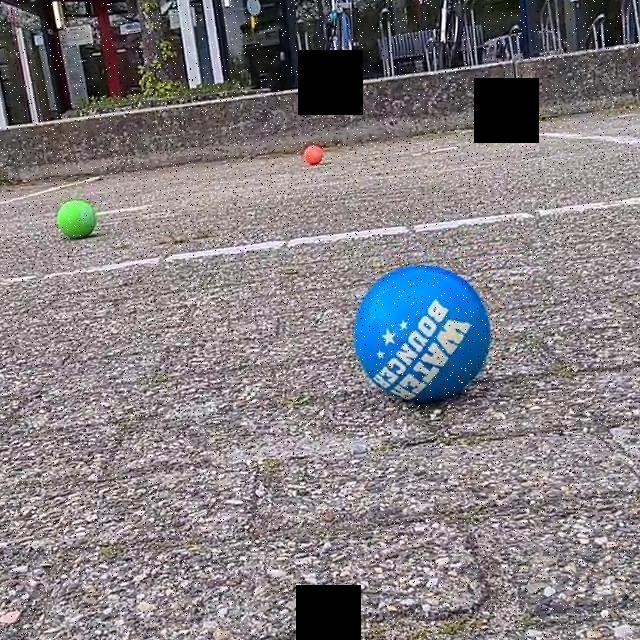ball: (56, 199, 98, 242), (302, 143, 328, 165)
